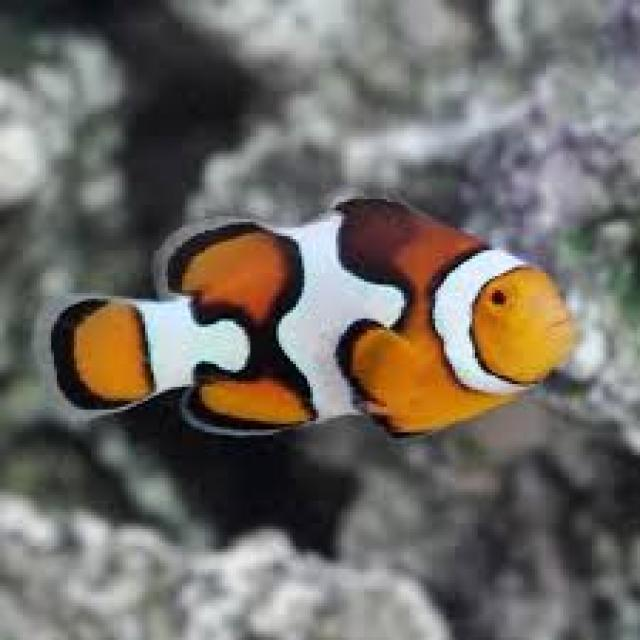ClownFish: (51, 196, 580, 441)
